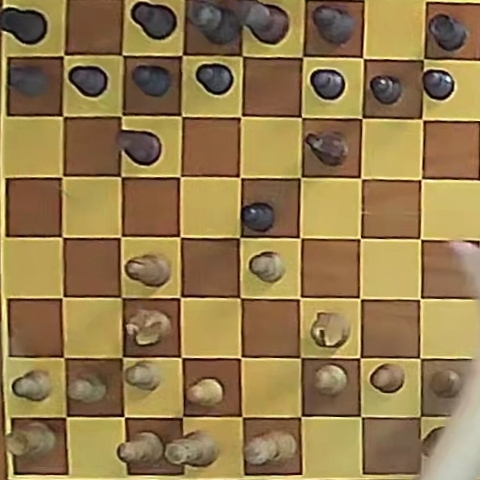black-bishop: (131, 2, 177, 41), (312, 5, 355, 46)
black-king: (234, 1, 288, 45)
black-knight: (118, 130, 161, 165), (305, 131, 348, 166)
black-pawn: (8, 64, 49, 97), (132, 64, 172, 96), (69, 65, 108, 97), (196, 64, 233, 95), (310, 69, 346, 100), (422, 69, 455, 101), (369, 75, 403, 105), (241, 202, 275, 231)
black-queen: (187, 1, 242, 45)
black-rook: (0, 6, 48, 46), (427, 13, 469, 52)
white-bishop: (119, 431, 165, 464), (125, 254, 169, 287)
white-king: (244, 430, 297, 466)
white-knight: (126, 309, 171, 345), (310, 312, 349, 348)
white-pawn: (12, 369, 52, 401), (68, 371, 107, 402), (249, 252, 285, 283), (185, 377, 223, 406), (125, 361, 161, 391), (314, 365, 348, 396), (370, 363, 404, 393), (429, 369, 461, 397)
white-queen: (165, 430, 219, 466)
white-rook: (7, 423, 57, 458)
